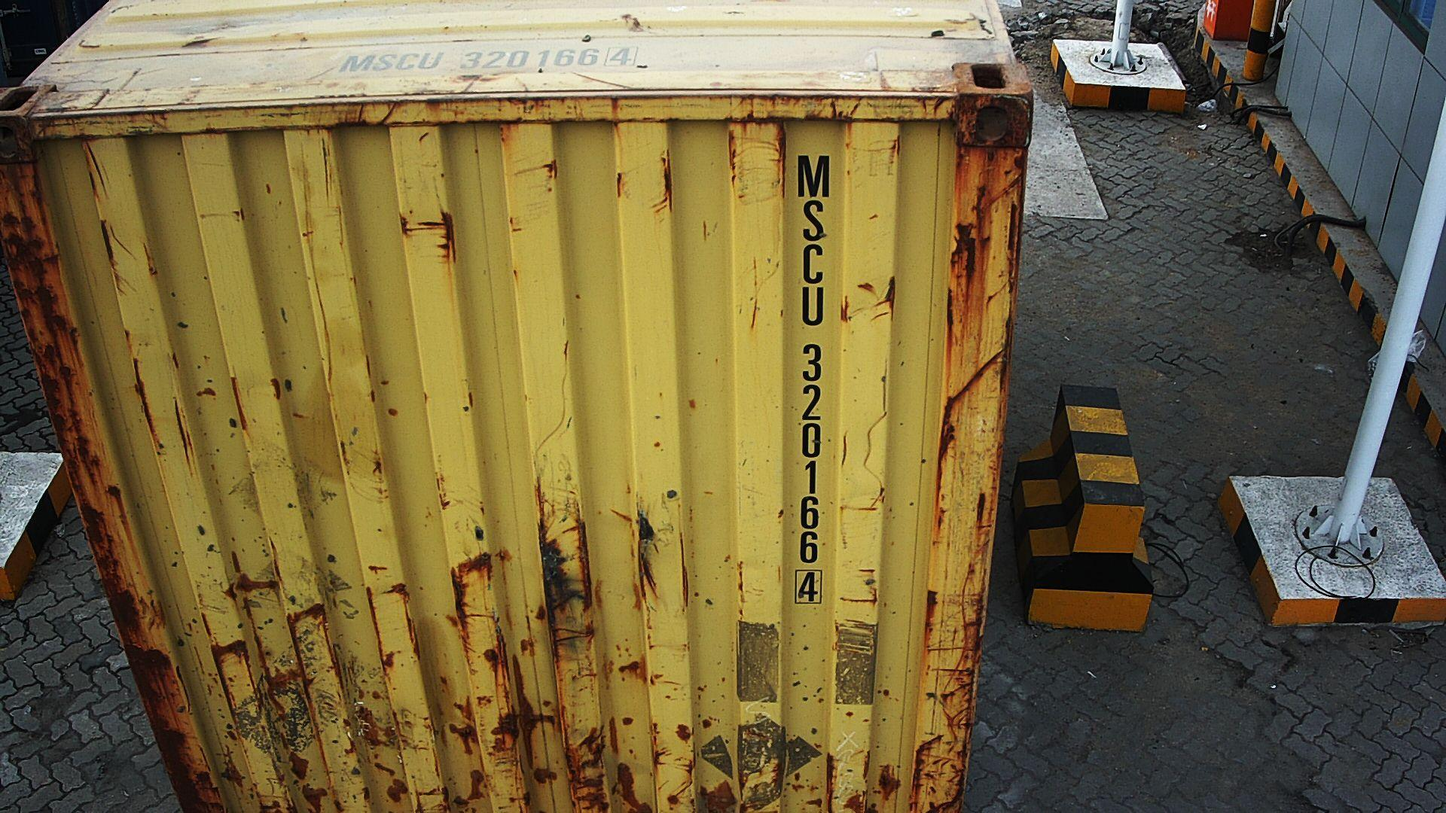container-numbers: (791, 148, 838, 615), (329, 43, 649, 76)
